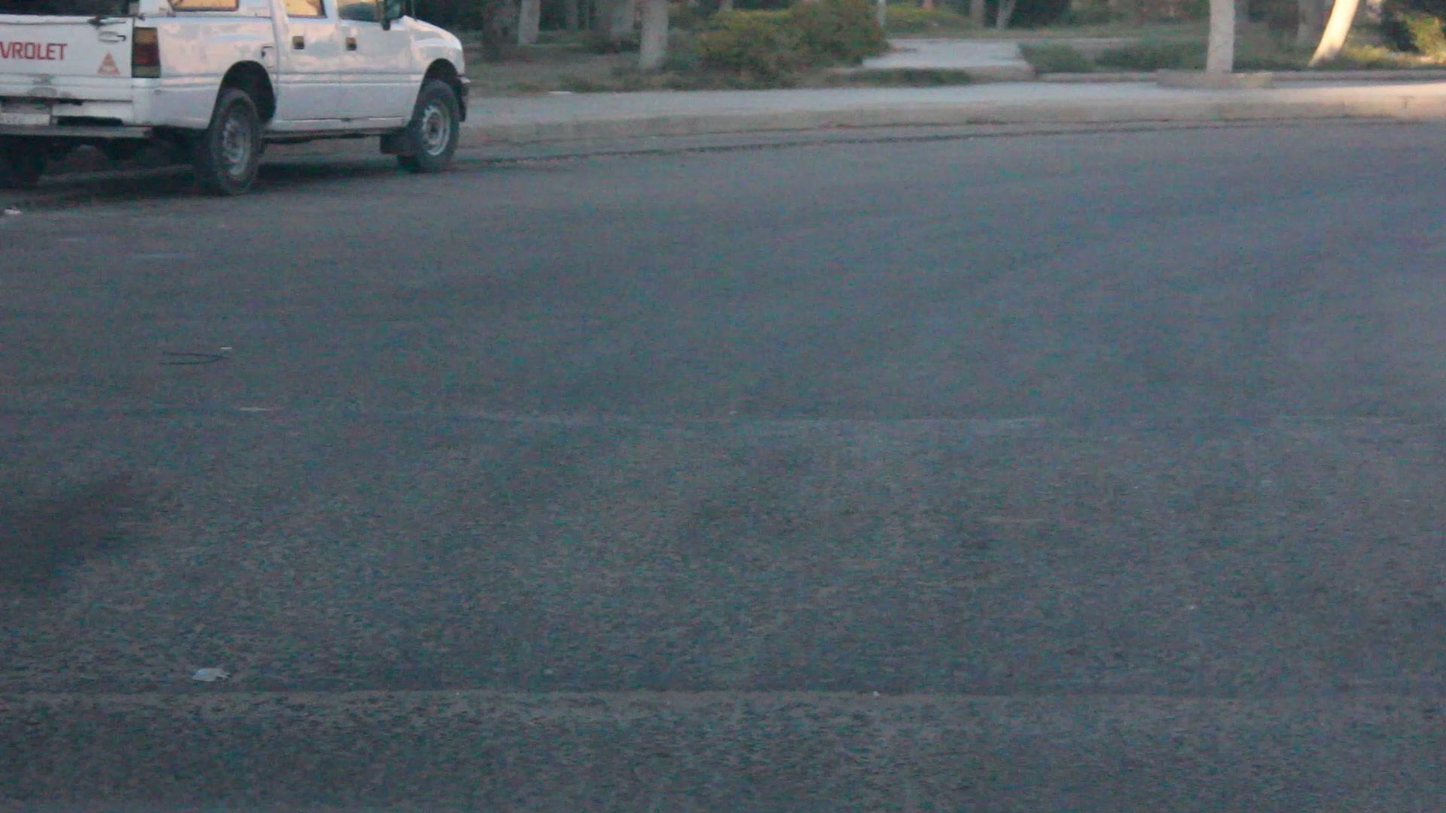Bump: (28, 414, 1446, 672)
